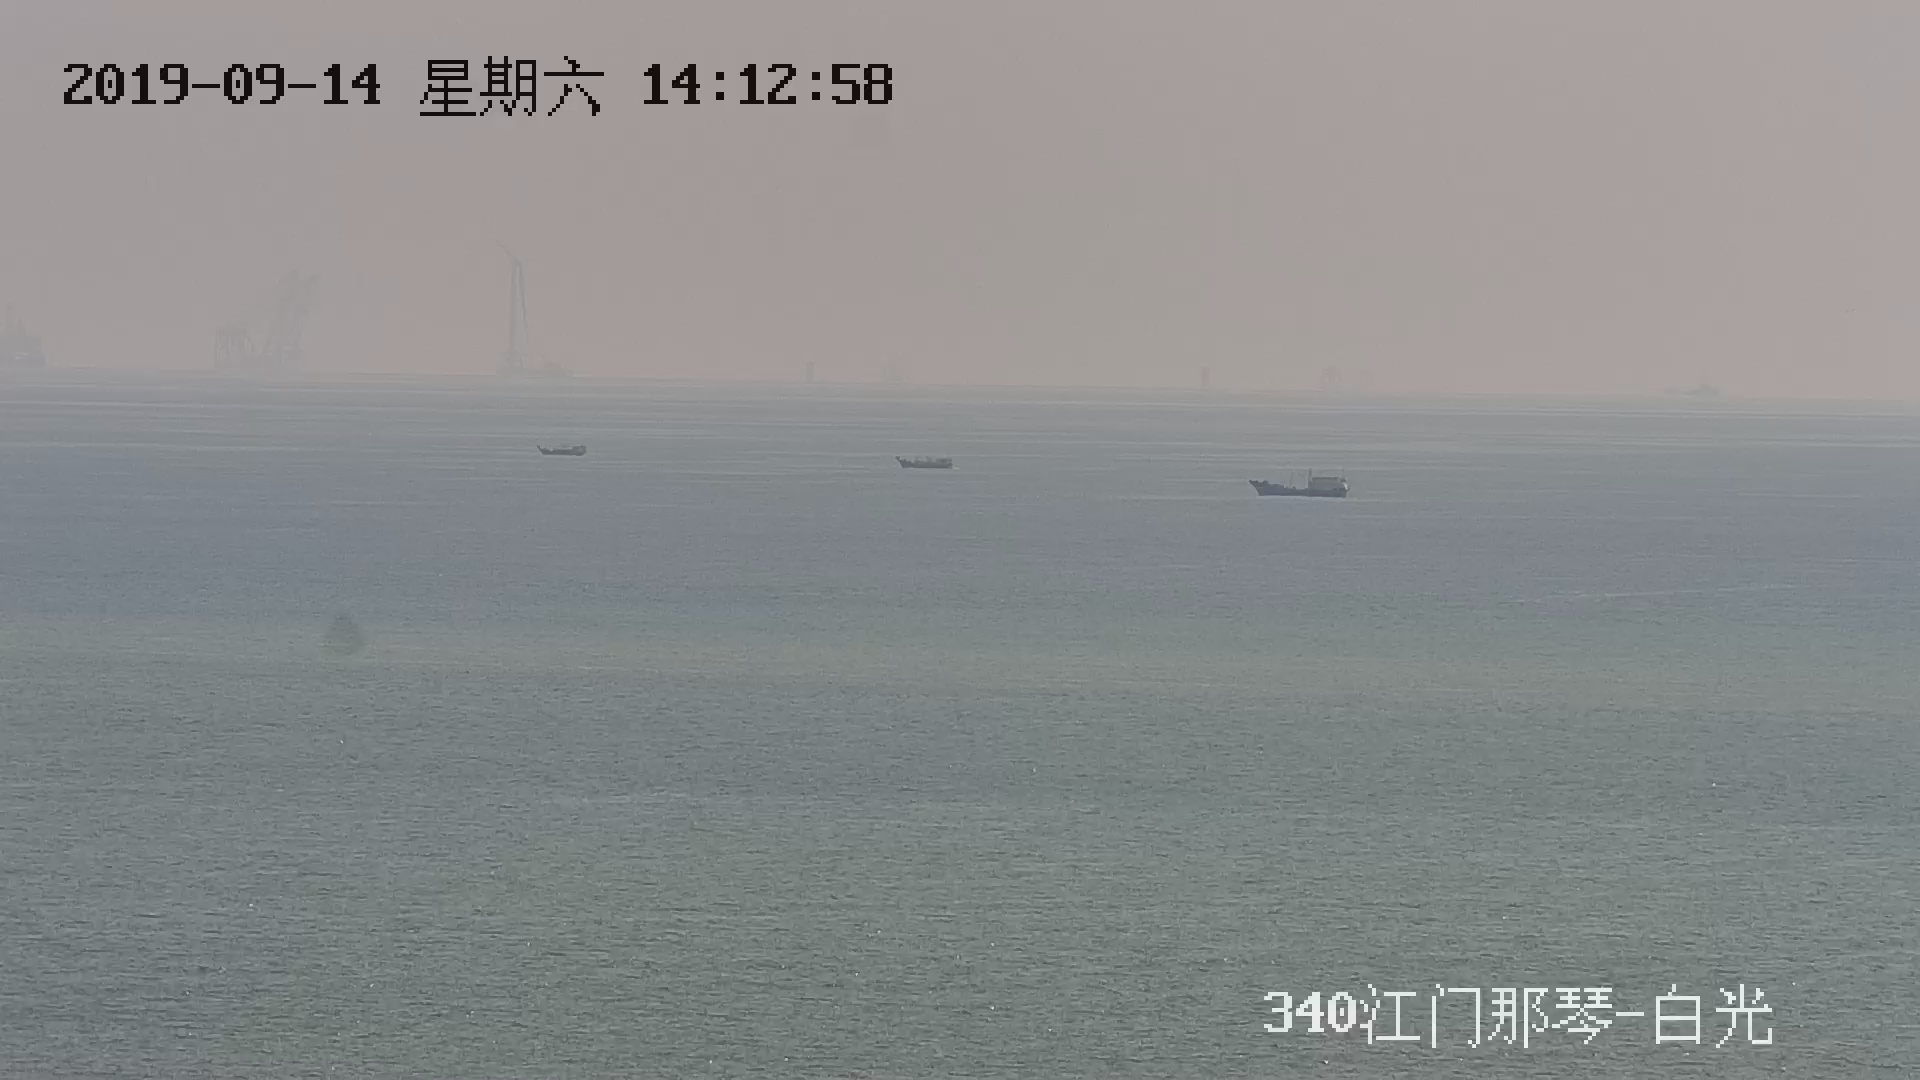ship: (1247, 471, 1349, 500), (894, 448, 955, 472), (541, 440, 588, 458)
